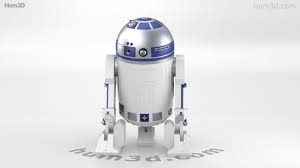r2d2: (97, 17, 193, 156)
